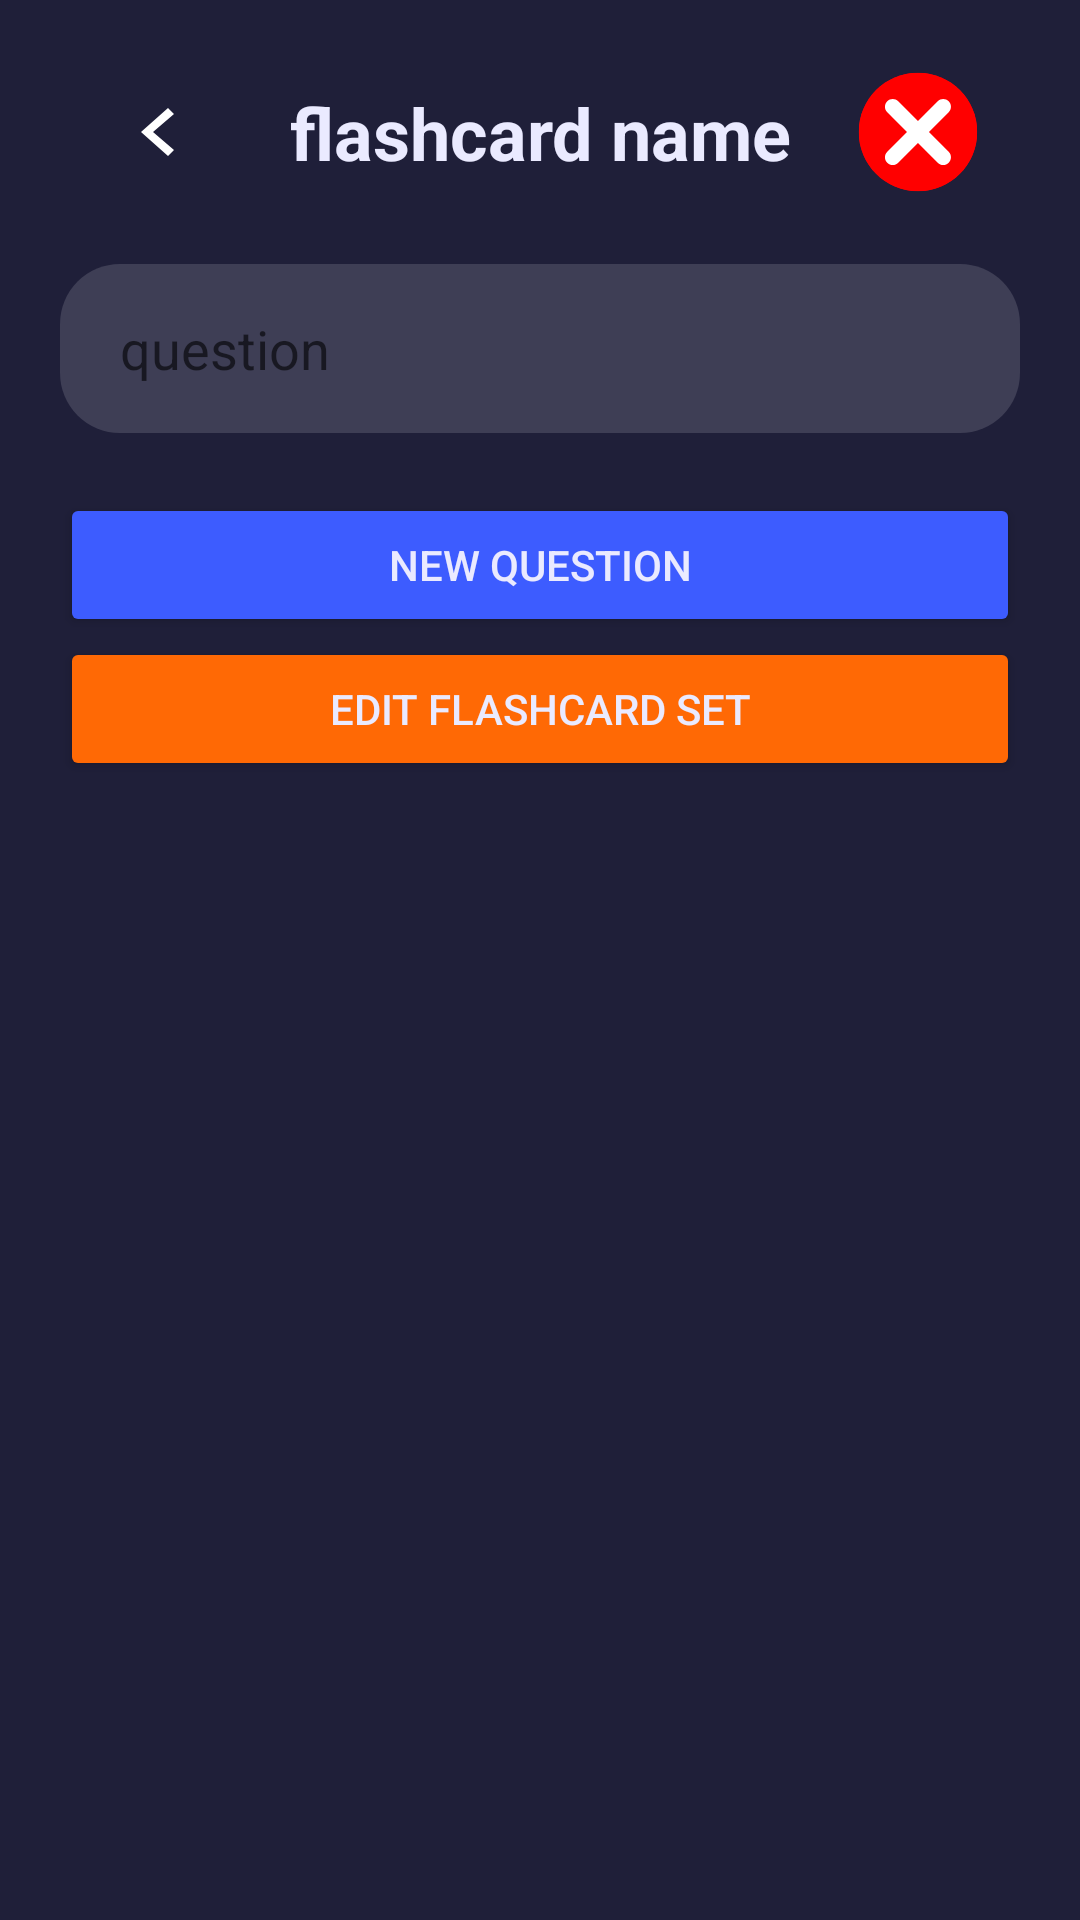

Screen size 1080*1920. Icon name, then its center in pixels as point (x, y):
back: point (157, 132)
delete: point (918, 132)
